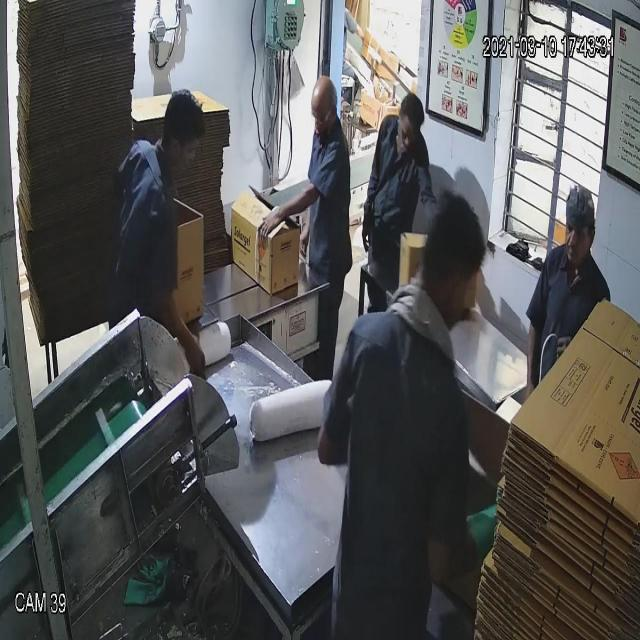No_Gloves: (64, 68, 292, 326)
